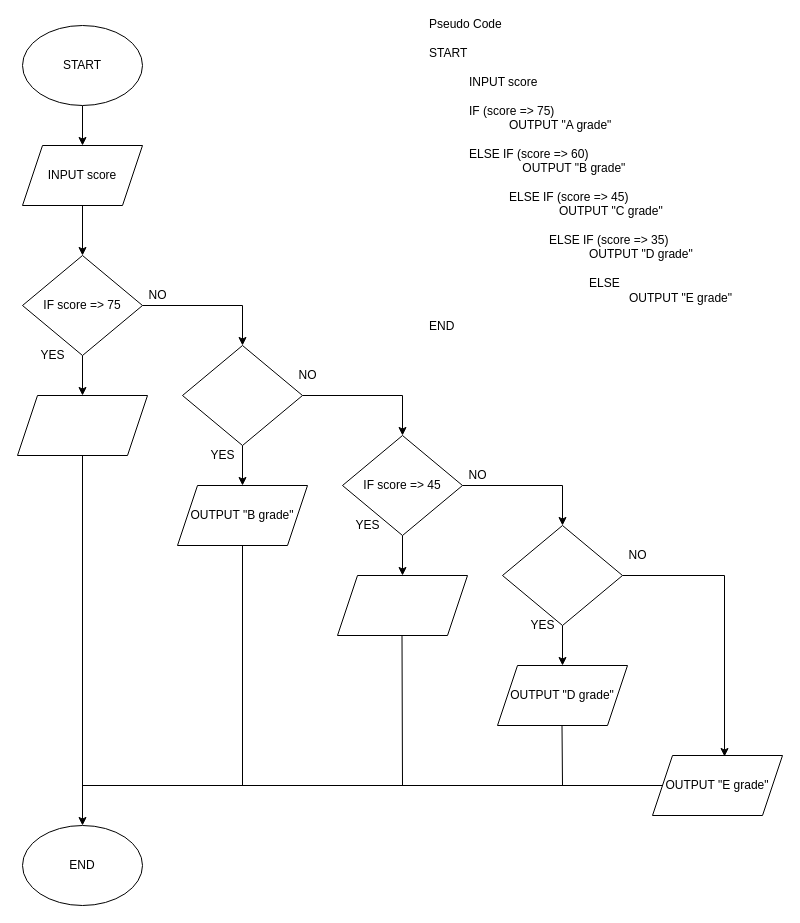
Image size: 800x923. Some labels were removed from this diagram. The shapes that lost their labels are listed below. From the top down, each one's box as (x1, y1, x2, y2) in pixels, then its label:
(182, 344, 302, 446): IF score => 60
(16, 394, 148, 456): OUTPUT "A grade"
(502, 524, 622, 626): IF score => 35
(336, 574, 468, 636): OUTPUT "C grade"
